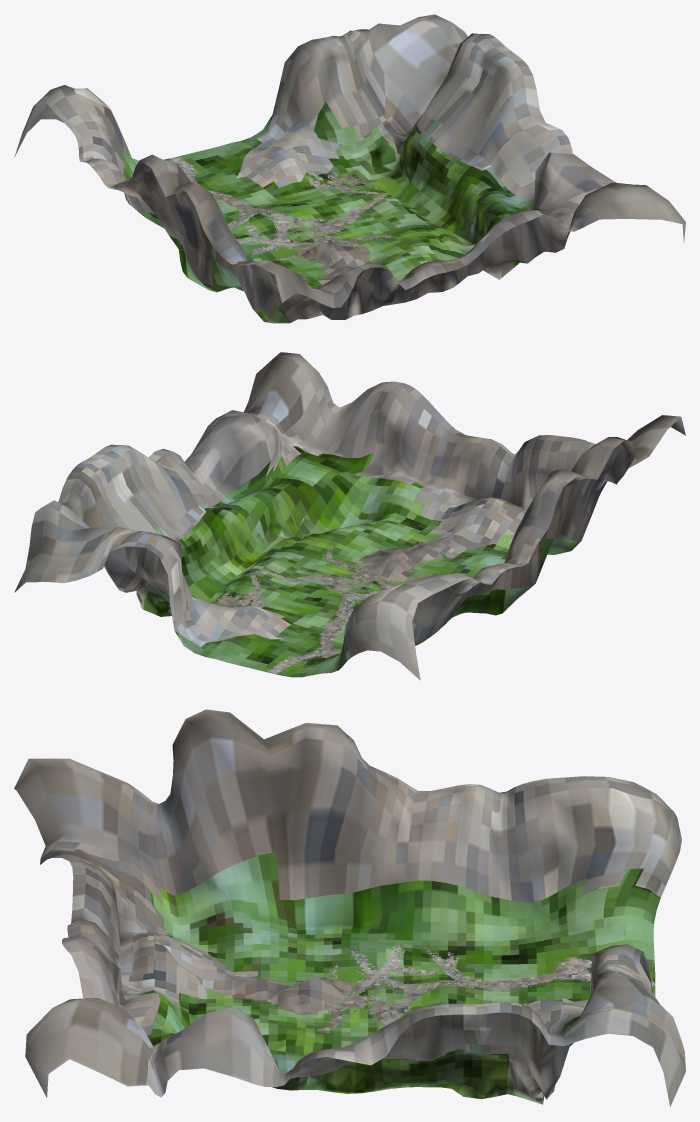
Rendered from Terrain.fbx.
The picture shows the model from 3 angles, top to bottom: view 1: azimuth 30°, elevation 25°; view 2: azimuth 150°, elevation 25°; view 3: azimuth 270°, elevation 25°; orthographic projection. The views are drawn at different scales.
Visible parts, largest first — view 1: Terrain; view 2: Terrain; view 3: Terrain.
Boxes of the visible parts, x1,y1,x2,y2 form: Terrain: [14, 14, 685, 323]; Terrain: [14, 352, 685, 680]; Terrain: [14, 709, 685, 1106].
Bounding box in the file's own units: 78393 × 28515 × 86448.
